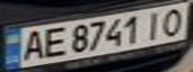1: (118, 12, 145, 44)
4: (103, 16, 127, 47)
7: (84, 19, 109, 52)
8: (66, 21, 90, 54)
A: (15, 27, 48, 62)
E: (36, 25, 69, 58)
I: (139, 8, 169, 39)
O: (157, 4, 193, 37)
